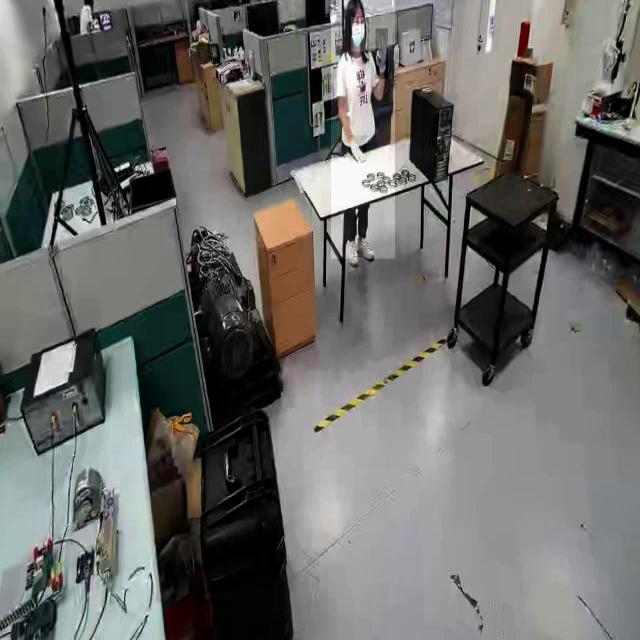face_mask: (351, 17, 365, 52)
hand_glove: (375, 28, 388, 80), (349, 135, 367, 162)
head_nohelmet: (345, 0, 367, 14)
person: (331, 0, 395, 260)
shoes: (344, 232, 362, 270), (357, 232, 377, 262)
